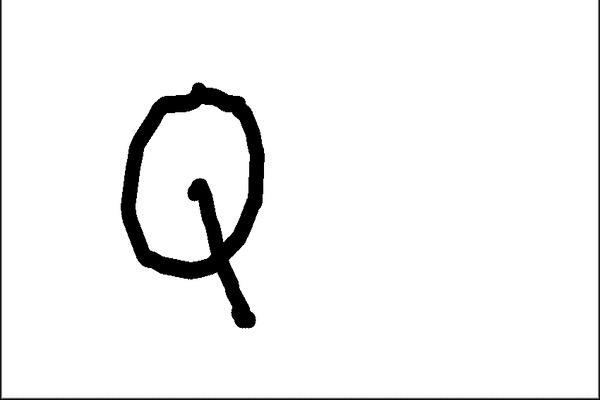Q: (109, 79, 277, 334)
